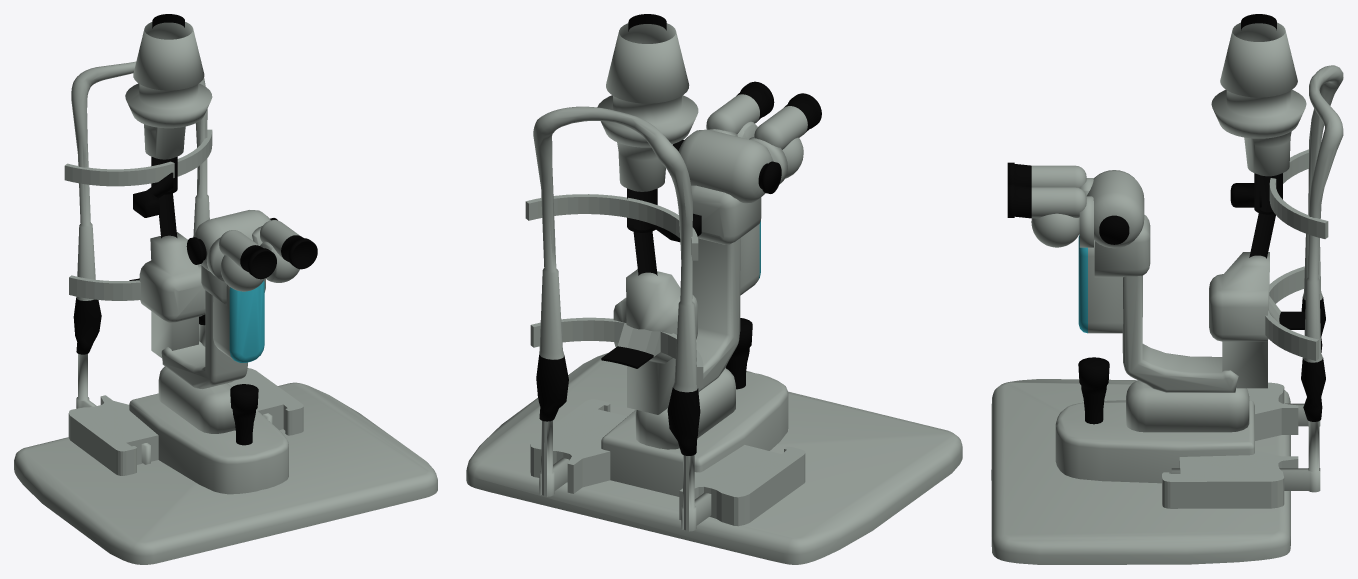
The model's file is BOF01.fbx.
3 views of the same model, side by side, from view 1: azimuth 30°, elevation 25°; view 2: azimuth 150°, elevation 25°; view 3: azimuth 270°, elevation 25° (orthographic). The views are drawn at different scales.
Visible parts, largest first — view 1: BOF01; view 2: BOF01; view 3: BOF01.
Boxes of the visible parts, x1=… form: BOF01: x1=14, y1=14, x2=437, y2=564; BOF01: x1=466, y1=14, x2=962, y2=564; BOF01: x1=991, y1=14, x2=1343, y2=564.
Size of the model in its own units: 57.9 by 72.84 by 50.68.
